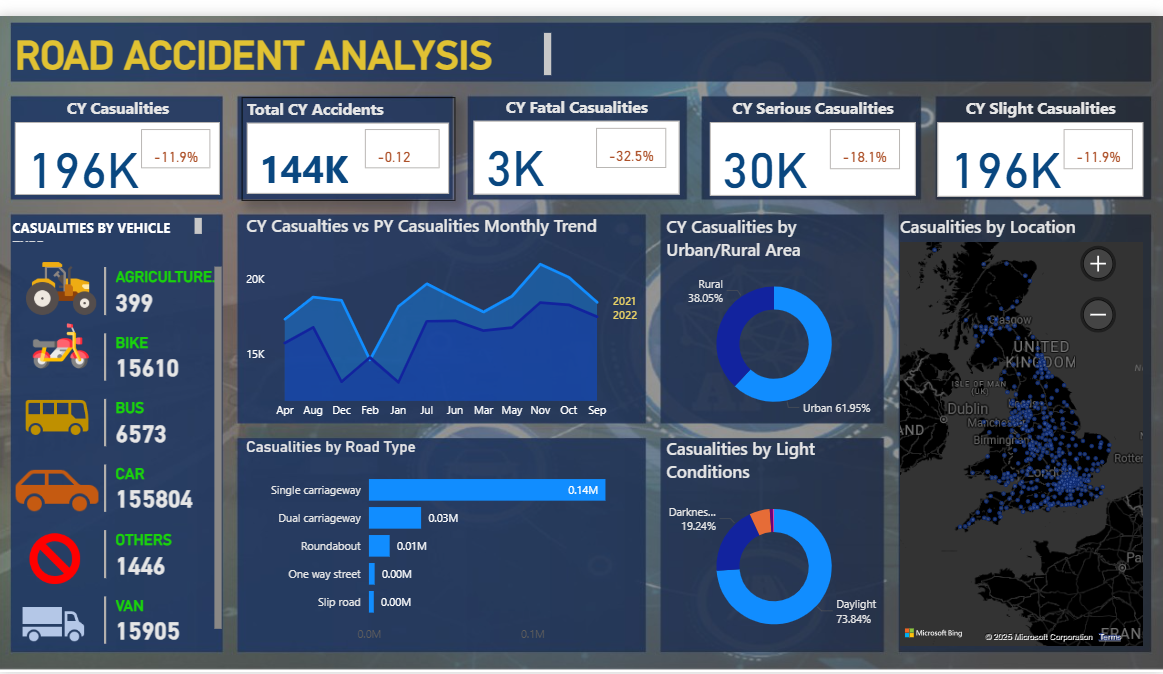

Layout of this report page (visuals, bound fields, positions):
{"tool":"powerbi","page":{"name":"Page 1","canvas":[1280,720],"ordinal":0},"visuals":[{"type":"cardVisual","title":"CY Casualities","fields":{"Data":["Data.CY Casualities"]},"box":[14.2,89.2,235.8,113.3],"z":0},{"type":"cardVisual","fields":{"Data":["Data.YoY Casulaties"]},"box":[152.5,119.2,86.7,53.3],"z":1000},{"type":"cardVisual","title":"Total CY Accidents","fields":{"Data":["Data.CY Accidents Counts"]},"box":[267.5,89.2,234.2,113.3],"z":2000},{"type":"cardVisual","fields":{"Data":["select","Data.YoY Accidents"]},"box":[398.3,119.2,92.5,53.3],"z":3000},{"type":"cardVisual","title":"CY Fatal Casualities","fields":{"Data":["Data.CY Casualities"]},"box":[518,88,236,114],"z":4000},{"type":"cardVisual","fields":{"Data":["Data.YoY Casulaties"]},"box":[651.5,118.2,87.9,54.5],"z":5000},{"type":"cardVisual","title":"CY Serious Casualities","fields":{"Data":["Data.CY Casualities"]},"box":[776,89,236,114],"z":6000},{"type":"cardVisual","fields":{"Data":["Data.YoY Casulaties"]},"box":[908,119,87,54],"z":7000},{"type":"cardVisual","title":"CY Slight Casualities","fields":{"Data":["Data.CY Casualities"]},"box":[1025.8,89.4,236.4,115.2],"z":8000},{"type":"cardVisual","fields":{"Data":["Data.YoY Casulaties"]},"box":[1165.2,119.7,86.4,54.5],"z":9000},{"type":"textbox","box":[13.6,13.6,598.5,57.6],"z":10000},{"type":"multiRowCard","fields":{"Values":["Data.Vehicle_Type (groups)","Data.CY Casualities"]},"box":[110.6,269.7,139.4,427.3],"z":11000},{"type":"image","box":[13.6,253,110.6,92.4],"z":12000},{"type":"image","box":[10.6,327.3,116.7,71.2],"z":13000},{"type":"image","box":[0,398.5,130.3,84.8],"z":14000},{"type":"image","box":[0,466.7,130.3,109.1],"z":15000},{"type":"image","box":[0,556.1,124.2,80.3],"z":16000},{"type":"image","box":[19.7,616.7,83.3,103],"z":17000},{"type":"textbox","box":[10.6,216.7,218.2,36.4],"z":18000},{"type":"areaChart","title":"CY Casualties vs PY Casualities Monthly Trend","fields":{"Category":["calendar.months"],"Y":["Sum(Data.Number_of_Casualties)"],"Series":["calendar.Date.Variation.Date Hierarchy.Year"]},"box":[268.2,216.7,442.4,234.8],"z":19000},{"type":"donutChart","title":"CY Casualities by Urban/Rural Area","fields":{"Category":["Data.Urban_or_Rural_Area"],"Y":["Data.CY Casualities"]},"box":[728.8,218.2,247,234.8],"z":20000},{"type":"donutChart","title":"Casualities by Light Conditions","fields":{"Y":["Data.CY Casualities"],"Category":["Data.Light_Conditions"]},"box":[728.8,462.1,247,234.8],"z":21000},{"type":"barChart","title":" Casualities by Road Type","fields":{"Category":["Data.Road_Type"],"Y":["Data.CY Casualities"]},"box":[268.2,462.1,442.4,234.8],"z":22000},{"type":"map","title":"Casualities by Location","fields":{"Y":["Data.Latitude"],"X":["Data.Longitude"],"Category":["Data.Local_Authority_(District)"]},"box":[985.3,218.2,277.2,478.9],"z":23000}]}

Visuals, with their boxes in screenshot pixels (x1, y1, x2, y2), scaled from the page's 1280x720 canvas onto the 1163x674 screenshot:
"CY Casualities" cardVisual: Rect(13, 84, 227, 190)
cardVisual - Data.YoY Casulaties: Rect(139, 112, 217, 161)
"Total CY Accidents" cardVisual: Rect(243, 84, 456, 190)
cardVisual - select x Data.YoY Accidents: Rect(362, 112, 446, 161)
"CY Fatal Casualities" cardVisual: Rect(471, 82, 685, 189)
cardVisual - Data.YoY Casulaties: Rect(592, 111, 672, 162)
"CY Serious Casualities" cardVisual: Rect(705, 83, 919, 190)
cardVisual - Data.YoY Casulaties: Rect(825, 111, 904, 162)
"CY Slight Casualities" cardVisual: Rect(932, 84, 1147, 192)
cardVisual - Data.YoY Casulaties: Rect(1059, 112, 1137, 163)
textbox: Rect(12, 13, 556, 67)
multiRowCard - Data.Vehicle_Type (groups) x Data.CY Casualities: Rect(100, 252, 227, 652)
image: Rect(12, 237, 113, 323)
image: Rect(10, 306, 116, 373)
image: Rect(0, 373, 118, 452)
image: Rect(0, 437, 118, 539)
image: Rect(0, 521, 113, 596)
image: Rect(18, 577, 94, 673)
textbox: Rect(10, 203, 208, 237)
"CY Casualties vs PY Casualities Monthly Trend" areaChart: Rect(244, 203, 646, 423)
"CY Casualities by Urban/Rural Area" donutChart: Rect(662, 204, 887, 424)
"Casualities by Light Conditions" donutChart: Rect(662, 433, 887, 652)
" Casualities by Road Type" barChart: Rect(244, 433, 646, 652)
"Casualities by Location" map: Rect(895, 204, 1147, 653)
